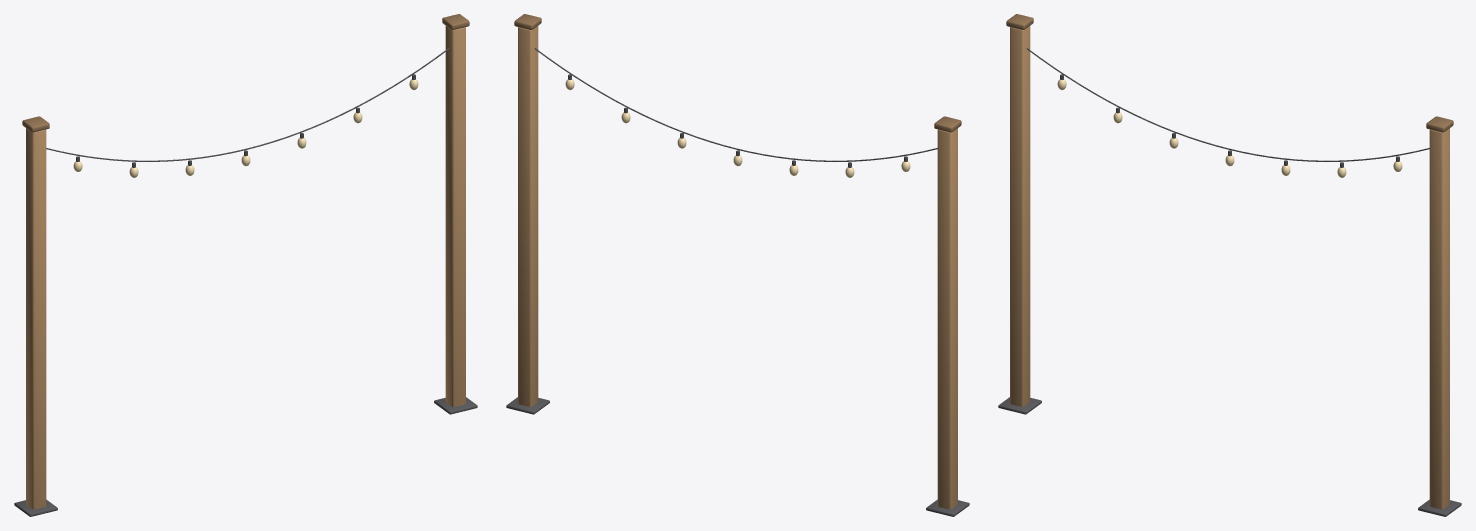
Rendered from Prop_StringLights.fbx.
The picture shows the model from 3 angles, left to right: view 1: azimuth 30°, elevation 25°; view 2: azimuth 150°, elevation 25°; view 3: azimuth 330°, elevation 25°; orthographic projection.
Visible parts, largest first — view 1: StringLights_Posts, StringLights_Wire; view 2: StringLights_Posts, StringLights_Wire; view 3: StringLights_Posts, StringLights_Wire.
Boxes of the visible parts, left/top/right/bottom form: StringLights_Posts: left=14, top=14, right=477, bottom=516; StringLights_Wire: left=46, top=48, right=448, bottom=177; StringLights_Posts: left=506, top=14, right=969, bottom=516; StringLights_Wire: left=535, top=48, right=937, bottom=177; StringLights_Posts: left=998, top=14, right=1461, bottom=516; StringLights_Wire: left=1027, top=48, right=1429, bottom=177.
Size of the model in its own units: 3.2 by 2.64 by 0.2.
